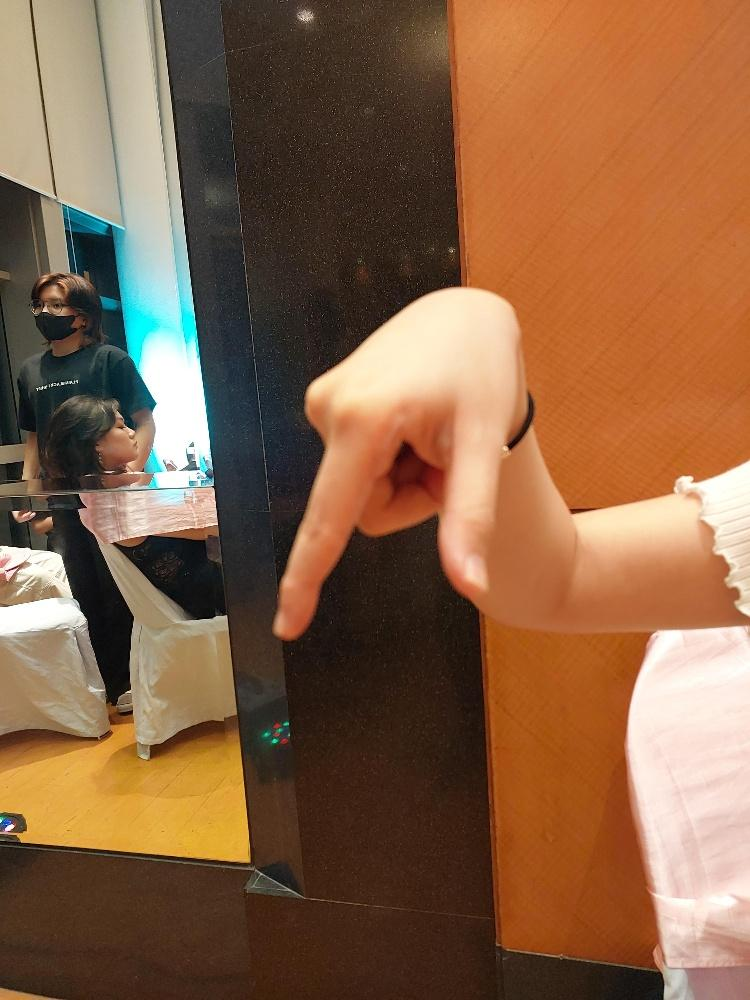q: (270, 284, 519, 636)
